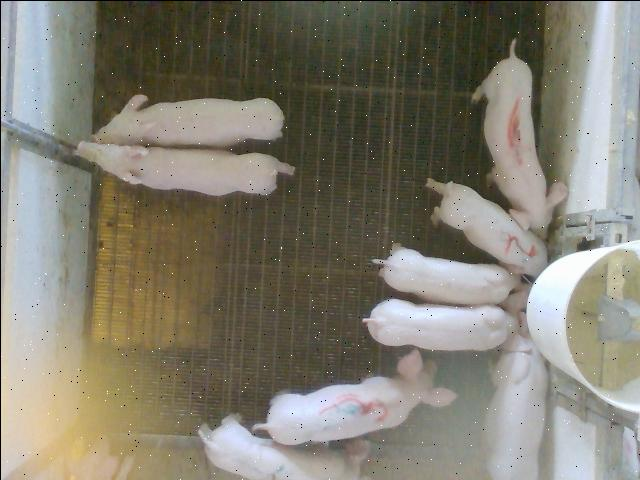pig-1: (471, 39, 566, 237)
pig-3: (252, 349, 455, 443)
pig-5: (426, 179, 546, 275)
